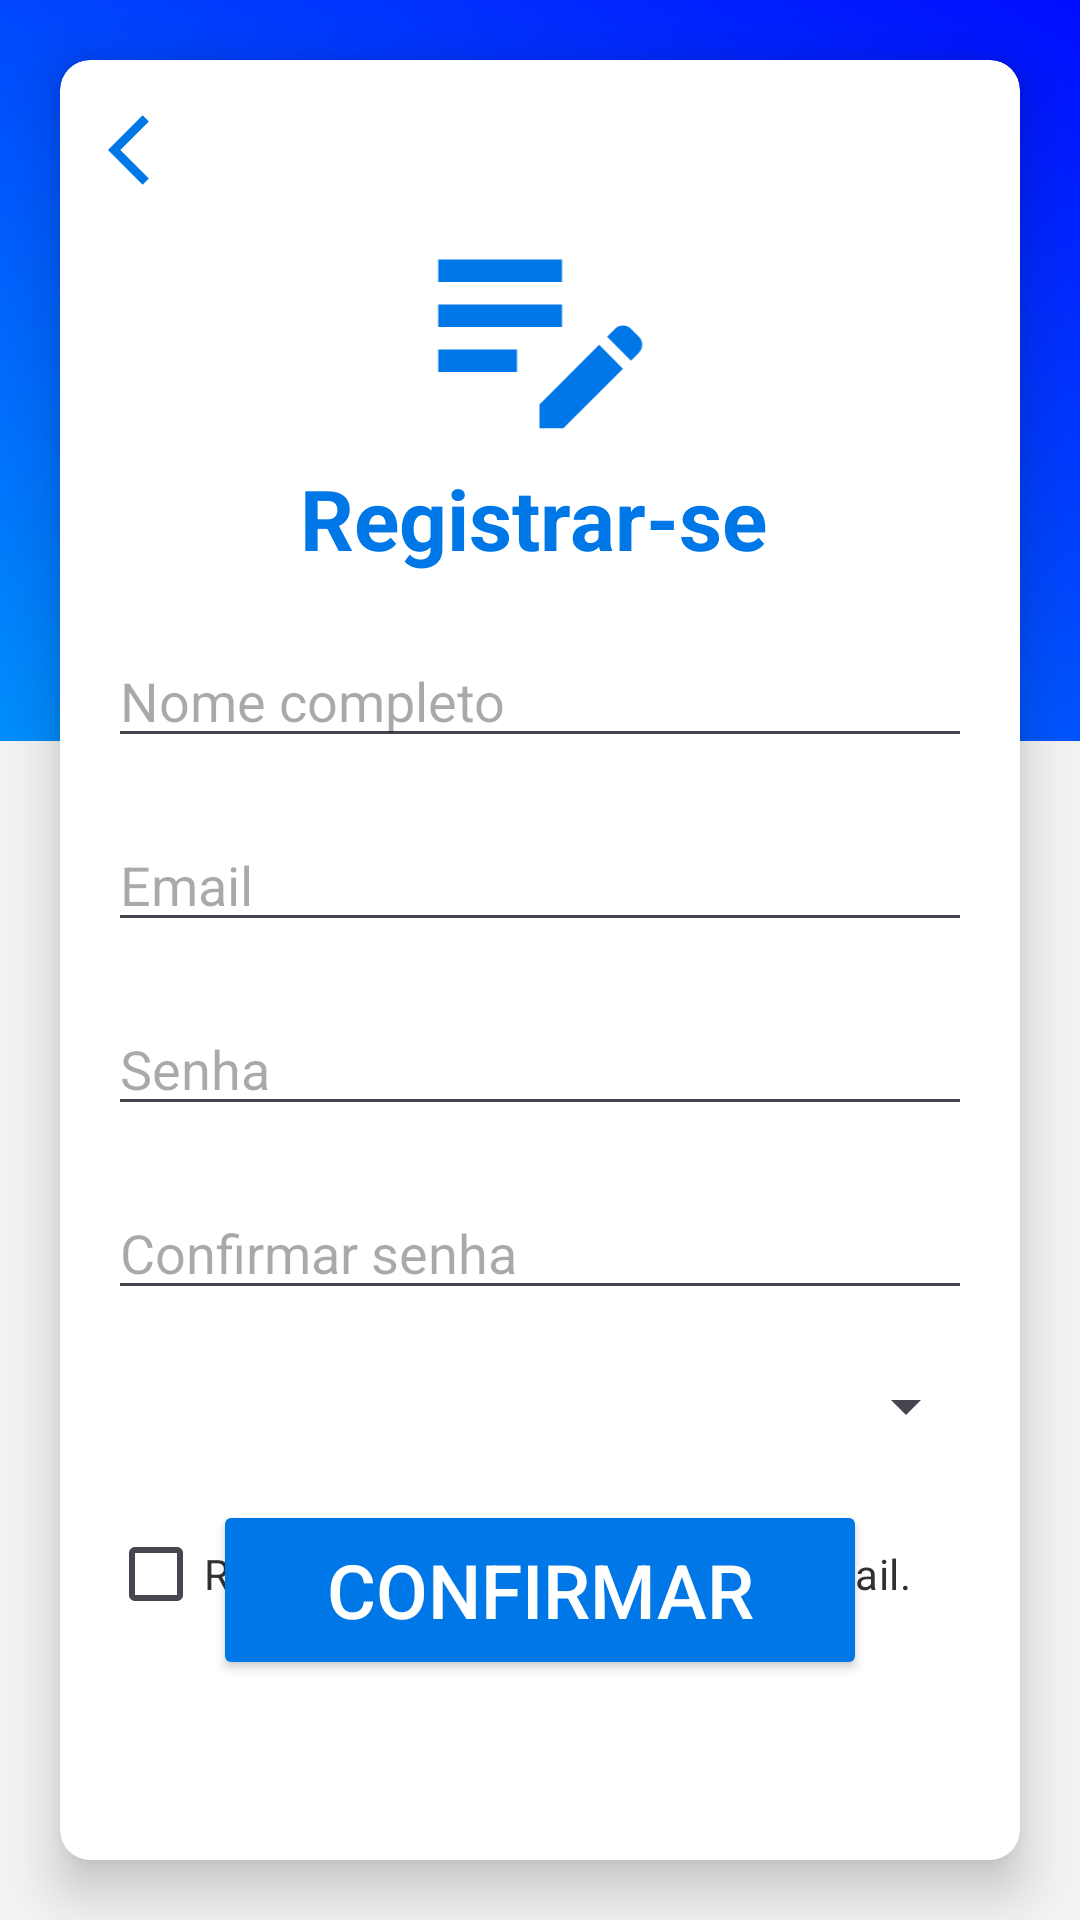

Icons on this 1080w x 1920h Android screen, each with its box as (x1, y1, x2, y2):
arrow back: (108, 115, 149, 185)
edit note: (437, 259, 643, 429)
